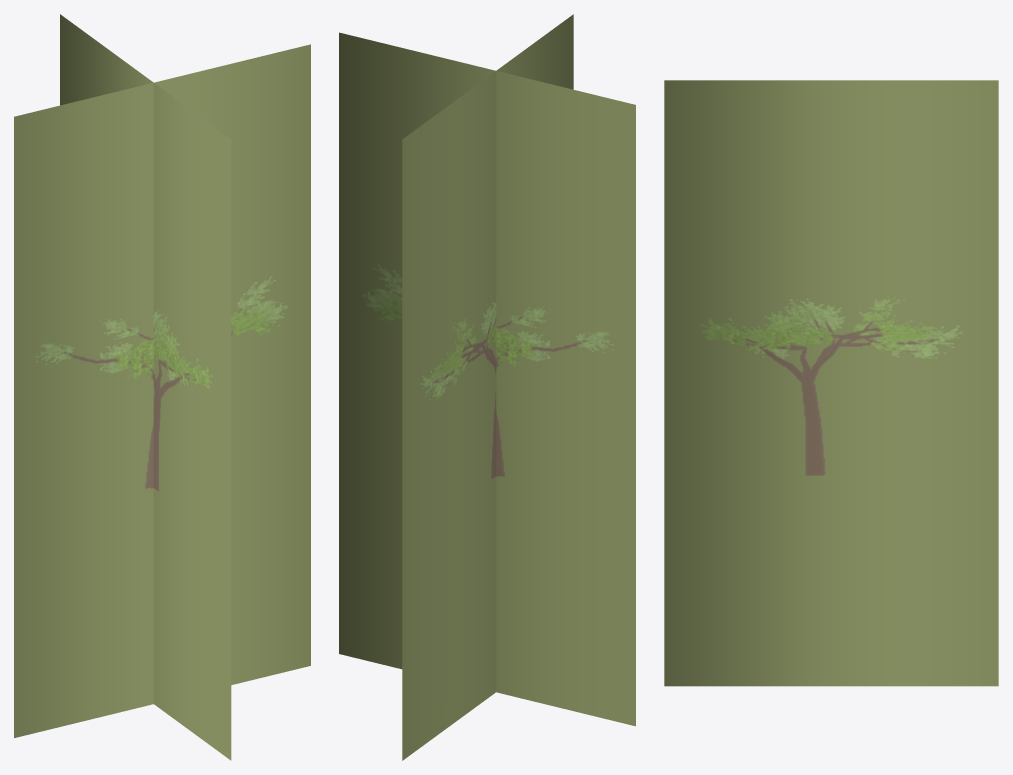
Rendered from acacia_1_far.glb.
The picture shows the model from 3 angles, left to right: view 1: azimuth 30°, elevation 25°; view 2: azimuth 150°, elevation 25°; view 3: azimuth 270°, elevation 25°; orthographic projection. The views are drawn at different scales.
Visible parts, largest first — view 1: acacia_1_far; view 2: acacia_1_far; view 3: acacia_1_far.
Part boxes in pixels (left/top/right/bottom): acacia_1_far: left=14, top=14, right=310, bottom=760; acacia_1_far: left=339, top=14, right=635, bottom=760; acacia_1_far: left=664, top=80, right=998, bottom=686.
Bounding box in the file's own units: 10.67 × 21.33 × 10.67.
Materials: 1 (1 with a texture image).
